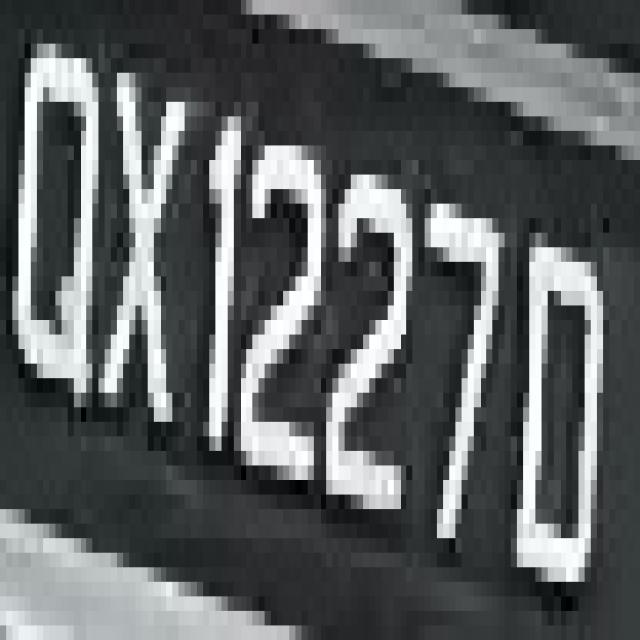1: (191, 87, 246, 480)
2: (234, 87, 326, 538), (332, 145, 418, 582)
7: (406, 87, 517, 538)
D: (517, 145, 603, 582)
Q: (12, 44, 111, 451)
X: (99, 14, 203, 466)
